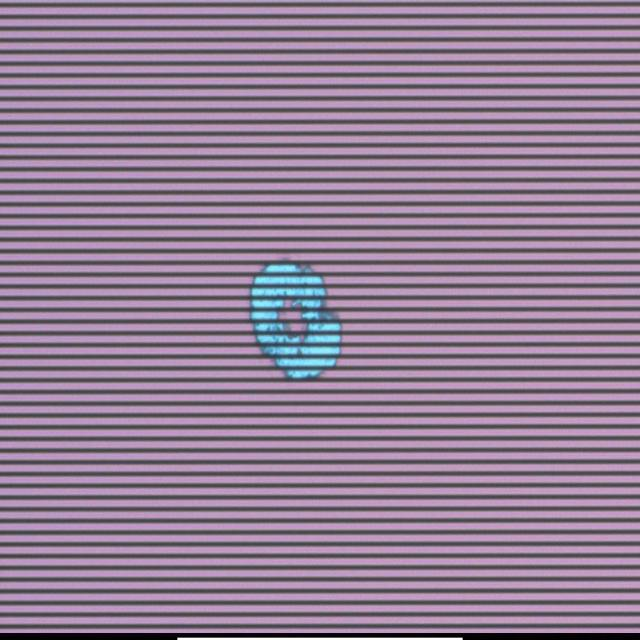nonvisual: (247, 257, 344, 384)
